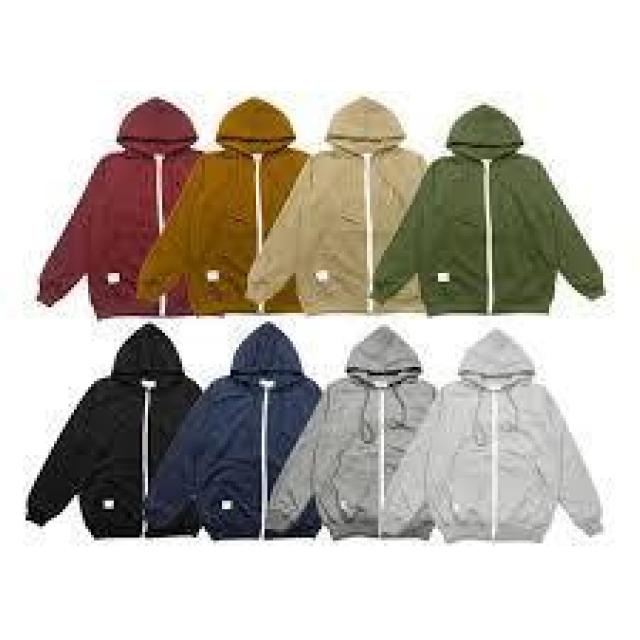sweater: (374, 104, 607, 314), (388, 333, 602, 543), (245, 96, 430, 314), (27, 320, 203, 539), (38, 95, 209, 317), (140, 96, 304, 314), (156, 326, 318, 542), (275, 327, 428, 541)
